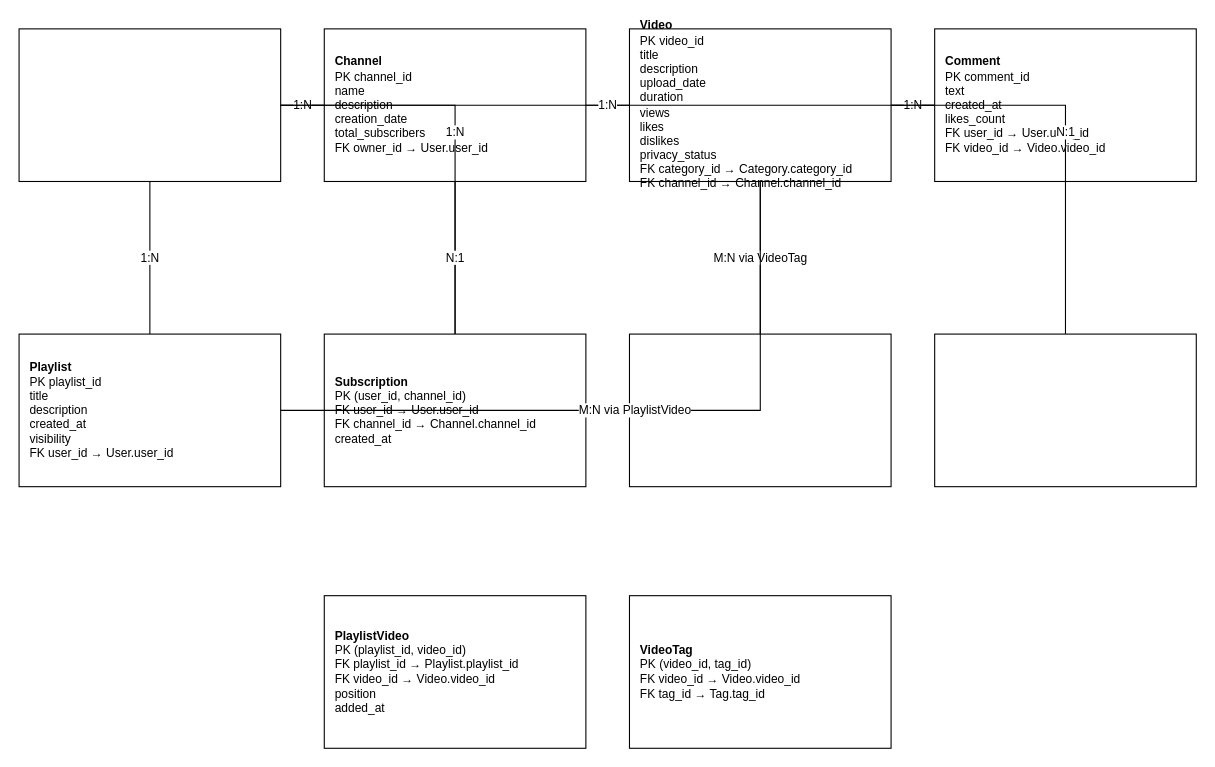
Some shapes in this 1215 by 767 pixel diagram are drawn without their labels. Each missing label, with the centre of its shape:
Category PK category_id name description: point (1065, 410)
Tag PK tag_id name description: point (759, 410)
User PK user_id username email password_hash join_date country avatar_url role: point (149, 104)
